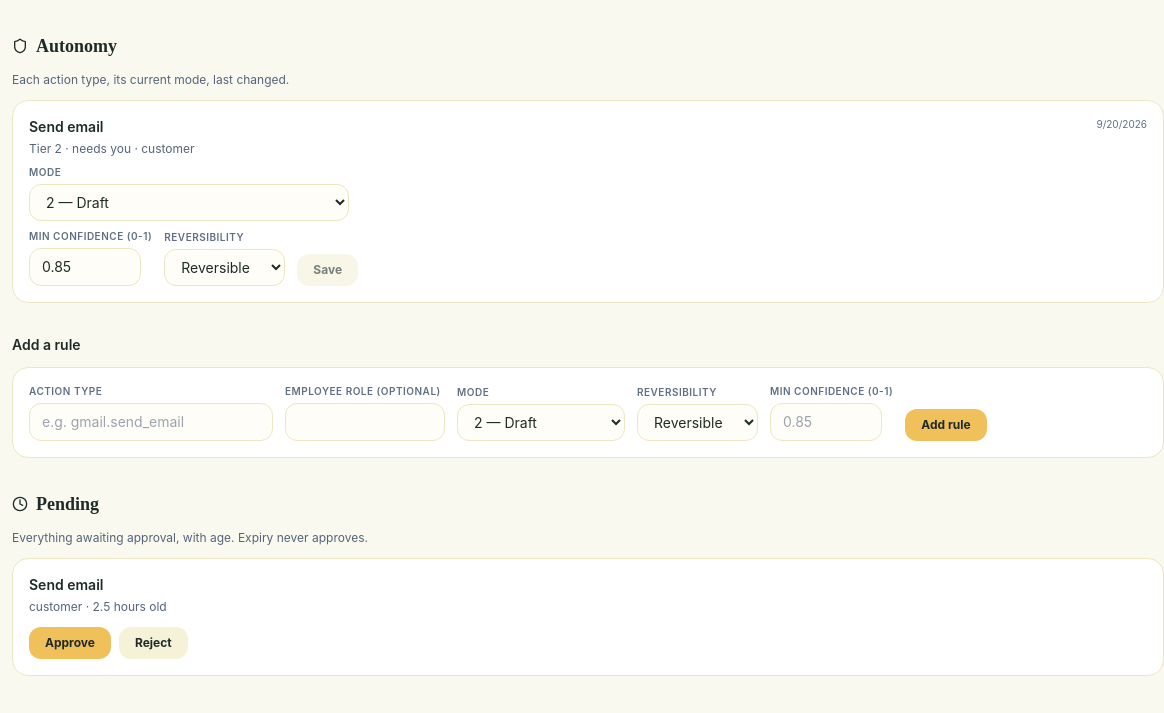
Test case: AutonomySettings › PATCHes autonomy tier and removes pending rows on approve/reject
The width and height of the screenshot is (1164, 713).
Expected: the text "customer · 2.5 hours old" is shown, top-left (29, 599), bottom-right (167, 614)
Expected: the text "Send email" next to "9/20/2026" is shown, top-left (29, 118), bottom-right (104, 135)
Select "3 — Act internally" in the dropdown named "Autonomy tier for Send email" at (189, 202), box top-left (29, 184), bottom-right (349, 221)
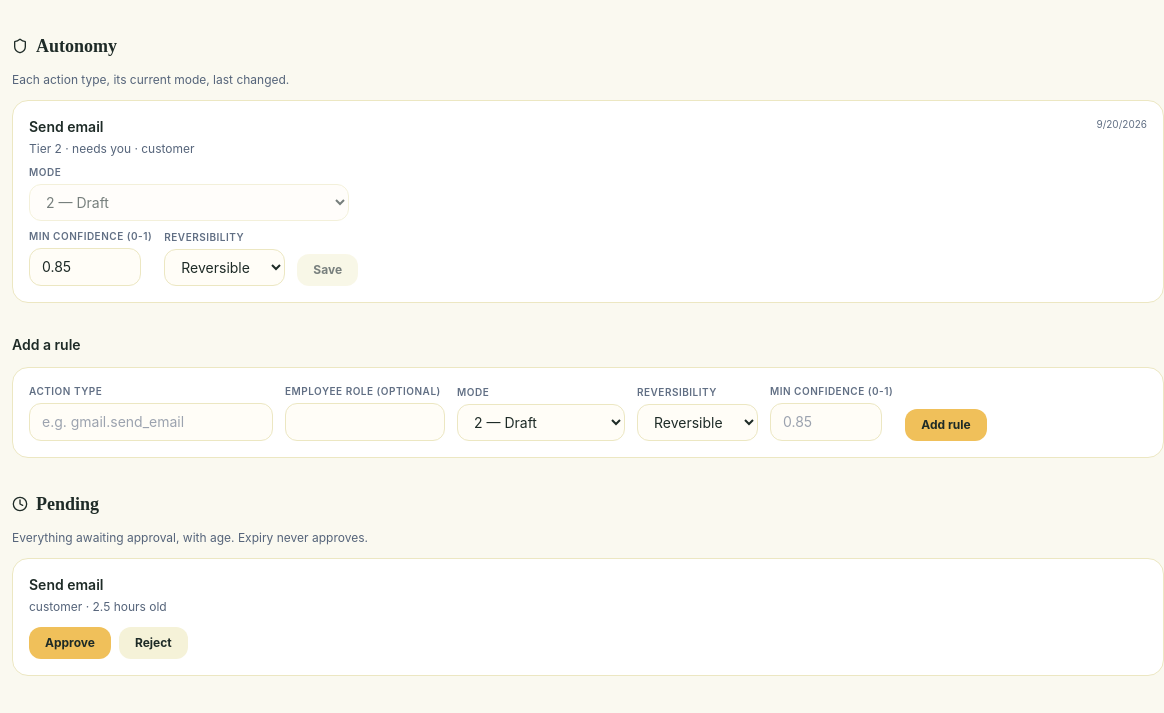
Click the button "Approve".
click(70, 643)  # box top-left (29, 627), bottom-right (111, 659)
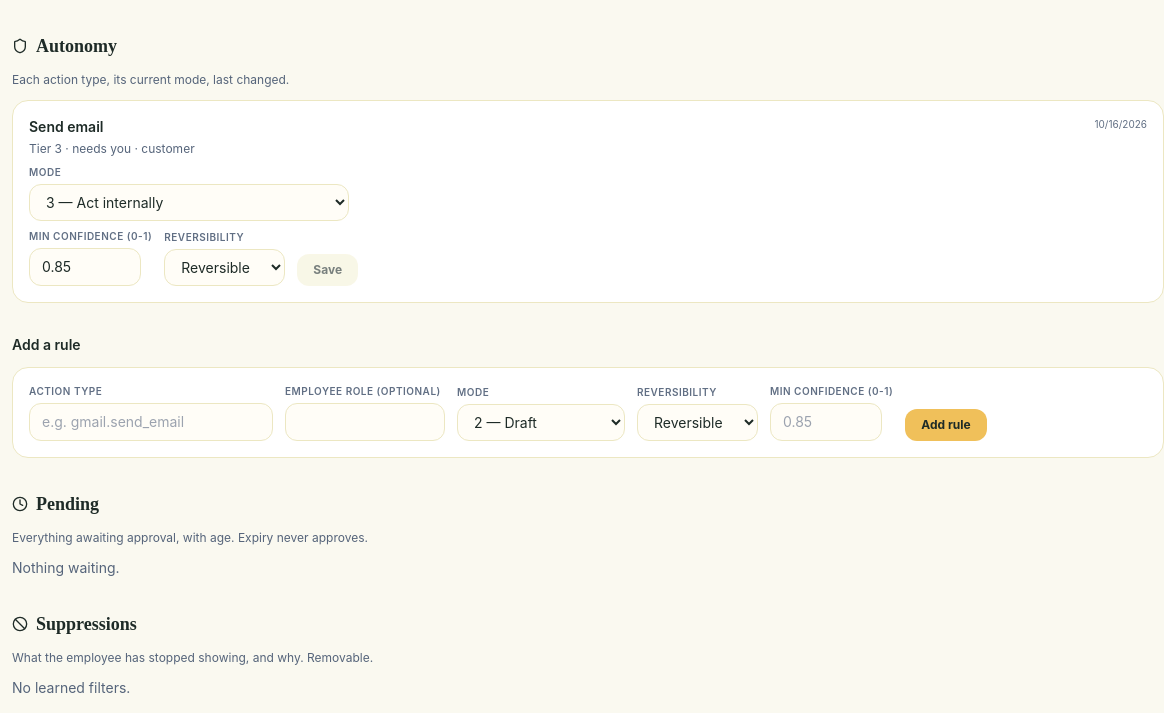
Expected: the text "Nothing waiting." is shown, top-left (12, 559), bottom-right (120, 576)
